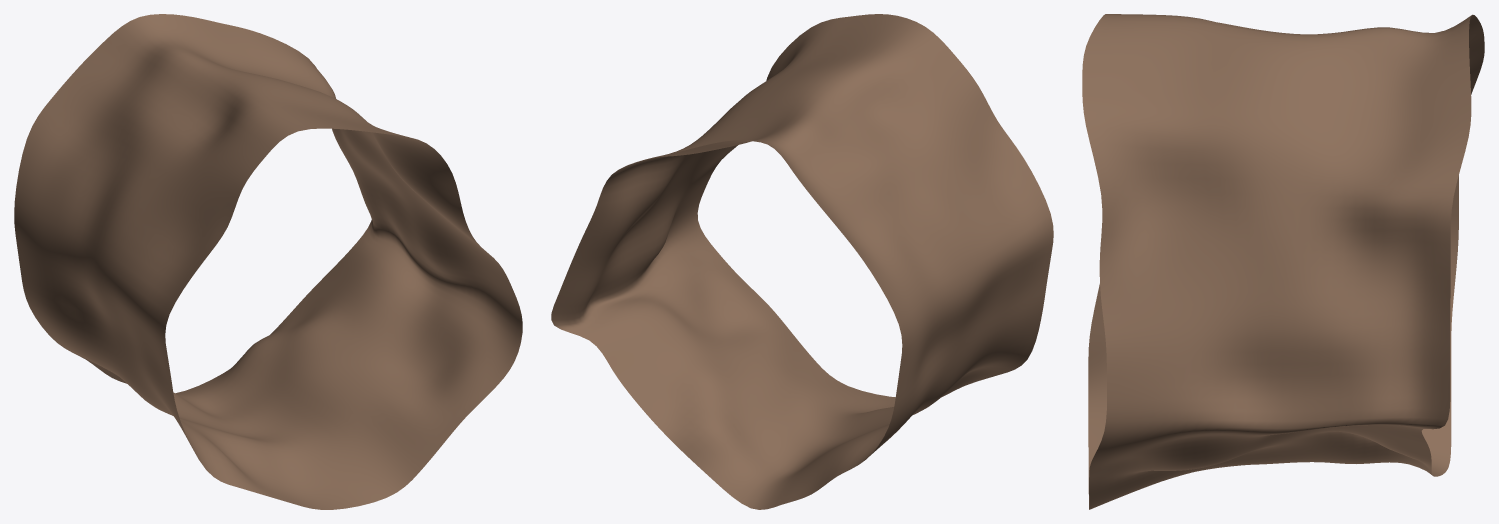
Rendered from Small_Tunnel_02.fbx.
3 views of the same model, side by side, from view 1: azimuth 30°, elevation 25°; view 2: azimuth 150°, elevation 25°; view 3: azimuth 270°, elevation 25° (orthographic). The views are drawn at different scales.
Visible parts, largest first — view 1: smalltunnel3; view 2: smalltunnel3; view 3: smalltunnel3.
Boxes of the visible parts, x1,y1,x2,y2 form: smalltunnel3: (14, 14, 522, 509); smalltunnel3: (551, 14, 1053, 509); smalltunnel3: (1082, 14, 1484, 509).
Size of the model in its own units: 174 by 180 by 146.
